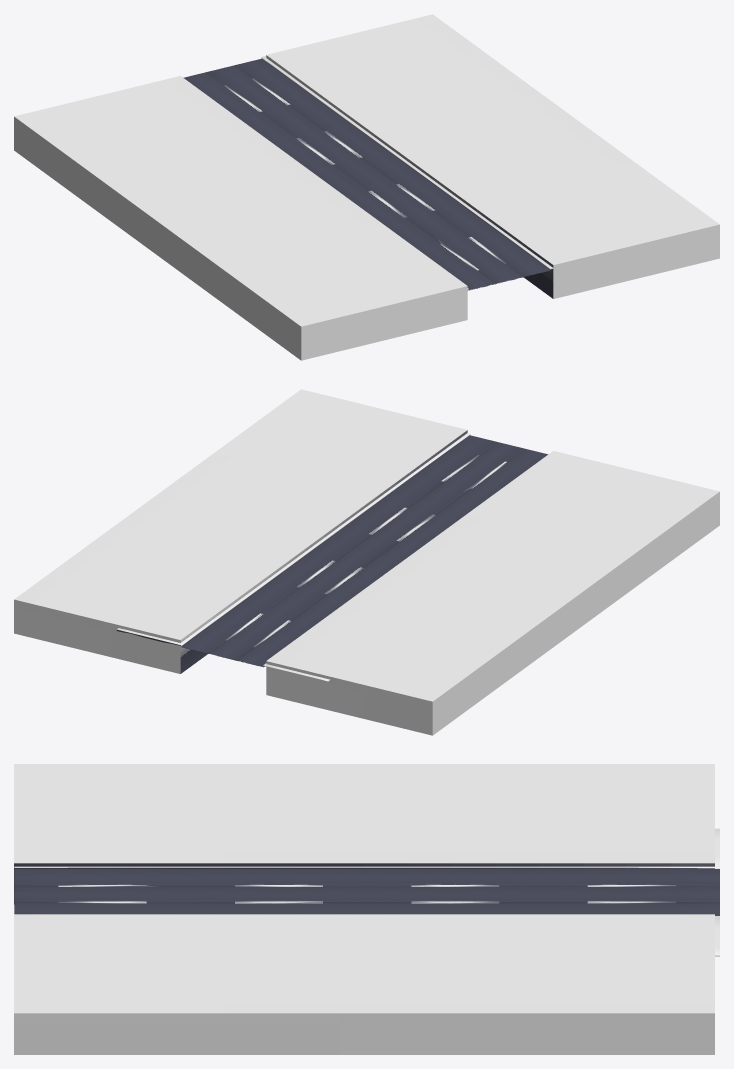
The model's file is final road (1).fbx.
The picture shows the model from 3 angles, top to bottom: view 1: azimuth 30°, elevation 25°; view 2: azimuth 150°, elevation 25°; view 3: azimuth 270°, elevation 25°; orthographic projection. The views are drawn at different scales.
Visible parts, largest first — view 1: Cube.002; view 2: Cube.002; view 3: Cube.002.
Part boxes in pixels (left/top/right/bottom): Cube.002: left=14, top=14, right=719, bottom=360; Cube.002: left=14, top=389, right=719, bottom=735; Cube.002: left=14, top=764, right=719, bottom=1054.
Size of the model in its own units: 4515 by 351 by 5403.
